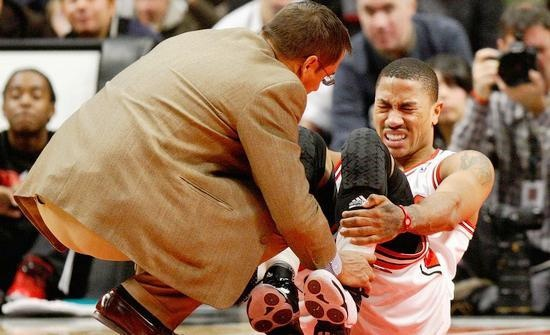falling: (274, 61, 503, 335)
